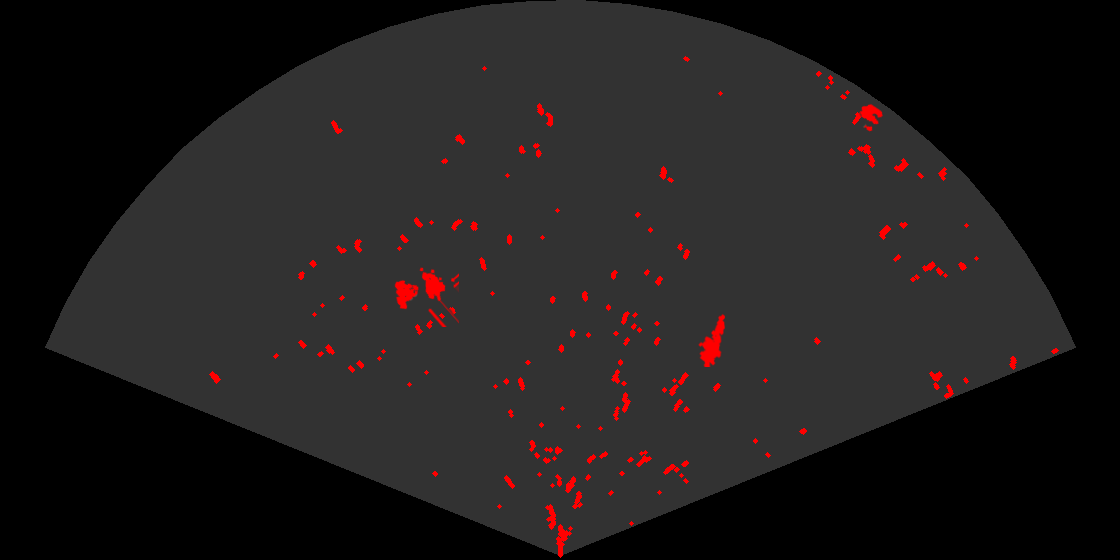ball: (858, 102, 885, 133)
cage: (393, 266, 459, 327)
frogman: (697, 312, 727, 367)
